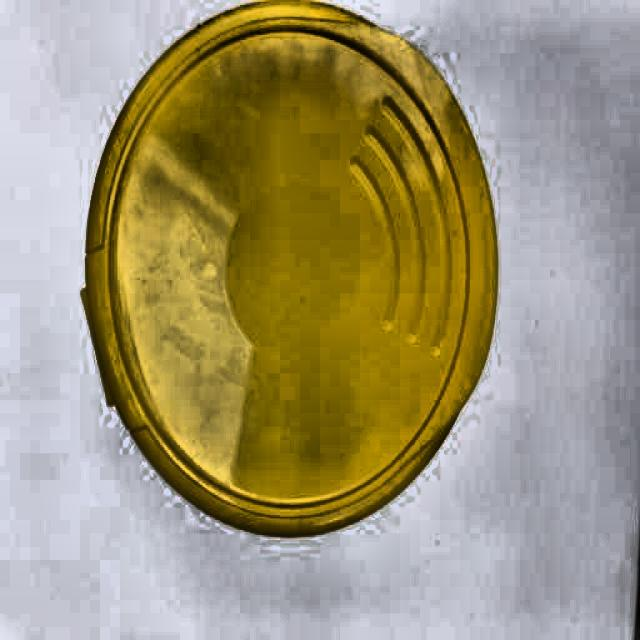plastic: (80, 2, 500, 537)
